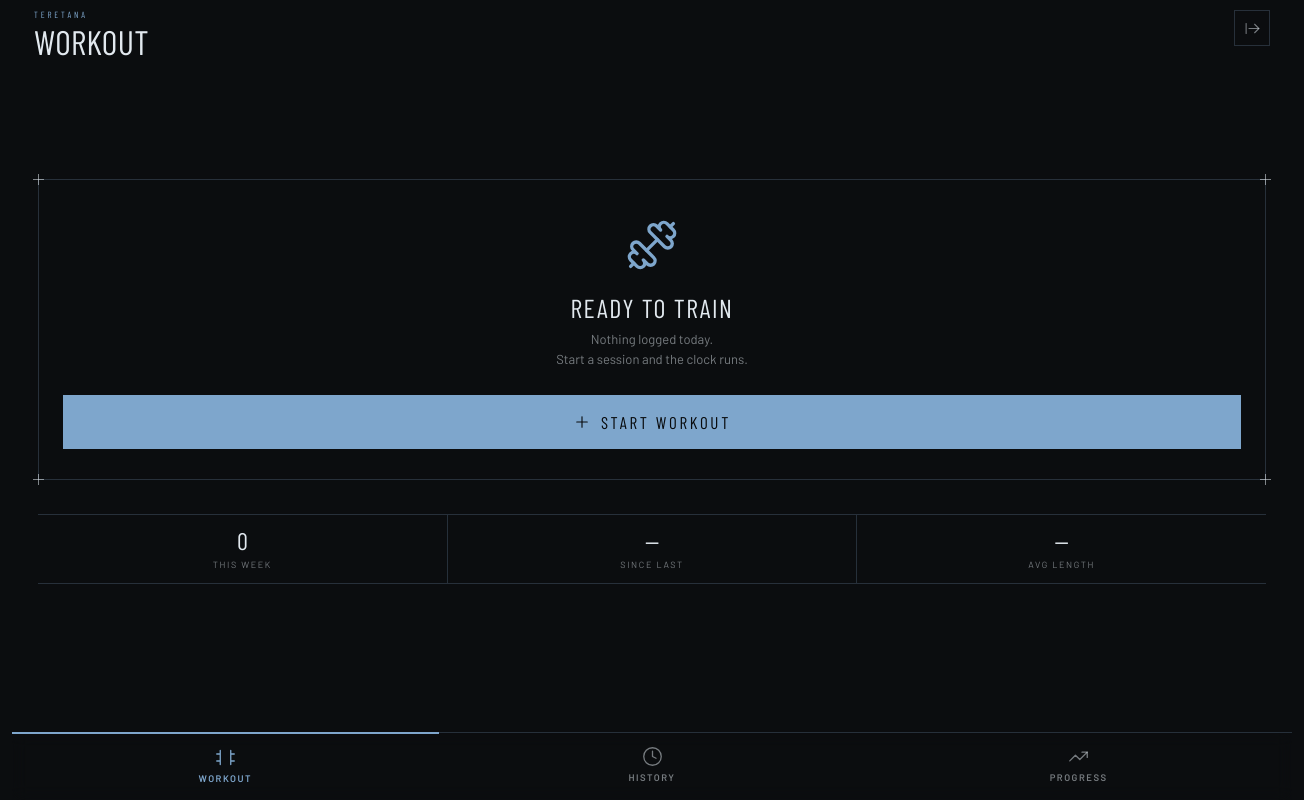
Test: App › discards a running session from the home screen
Expected: the text "Ready to train" is shown, 570,292 -> 733,324
Click the button "Start workout": (652, 422) 63,395 -> 1241,449
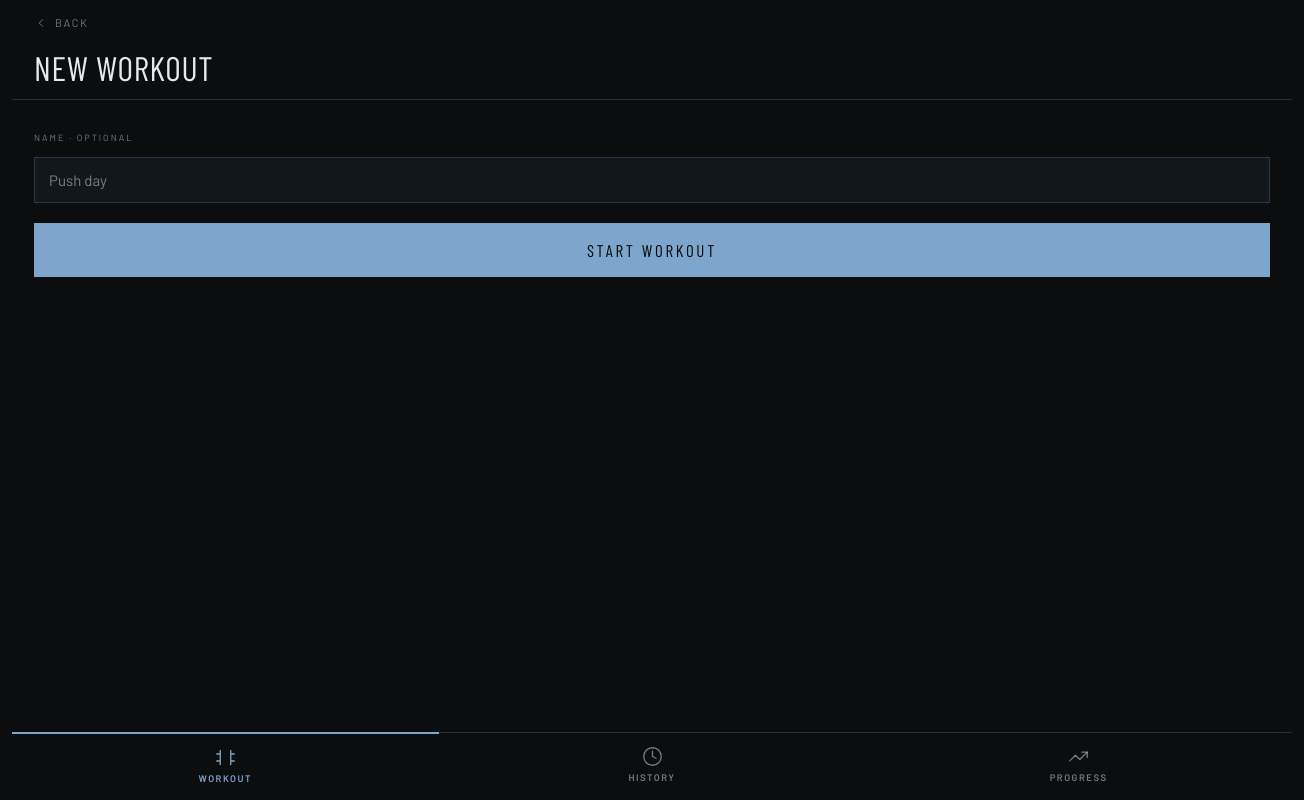
Click the button "Start workout": (652, 250) 34,223 -> 1270,277
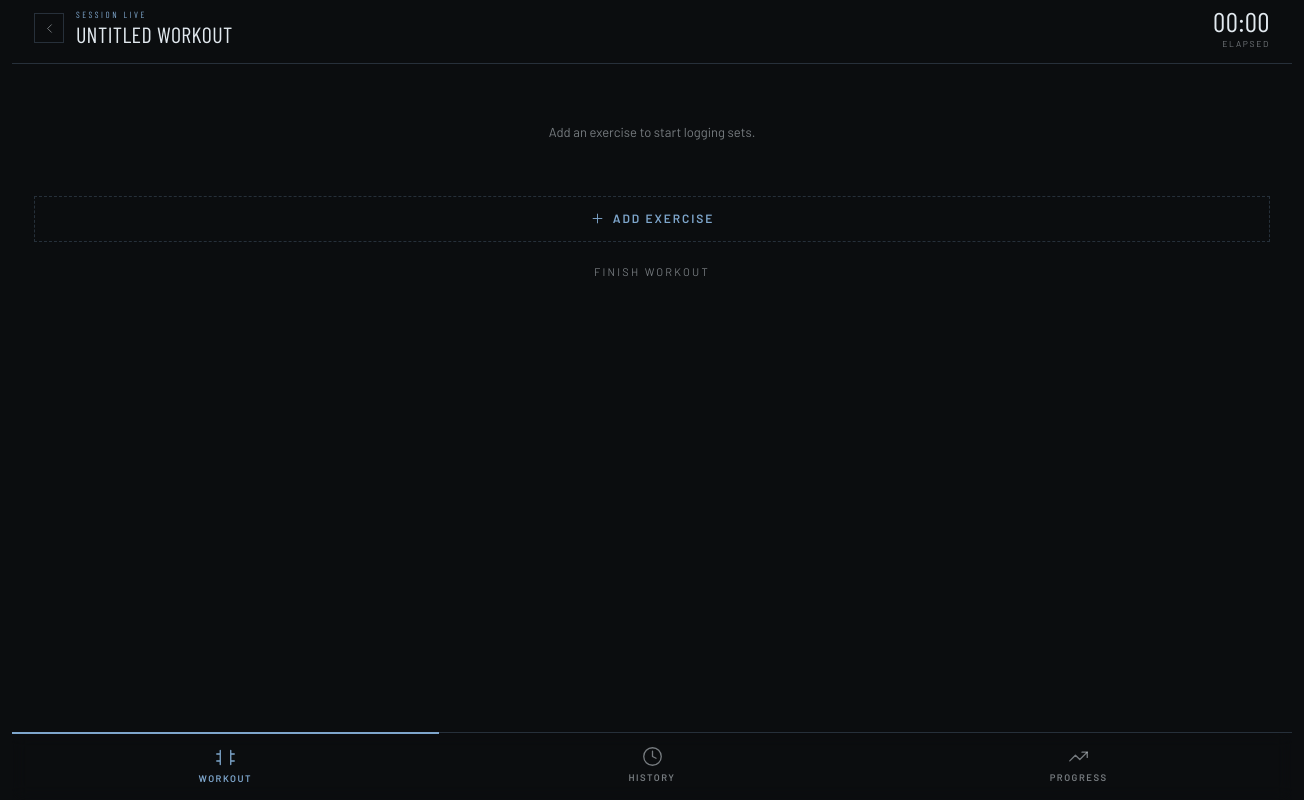
Now the text "Session live" is shown, box 76,9 -> 147,20
Click the button named "Back": (49, 28) 34,13 -> 64,43
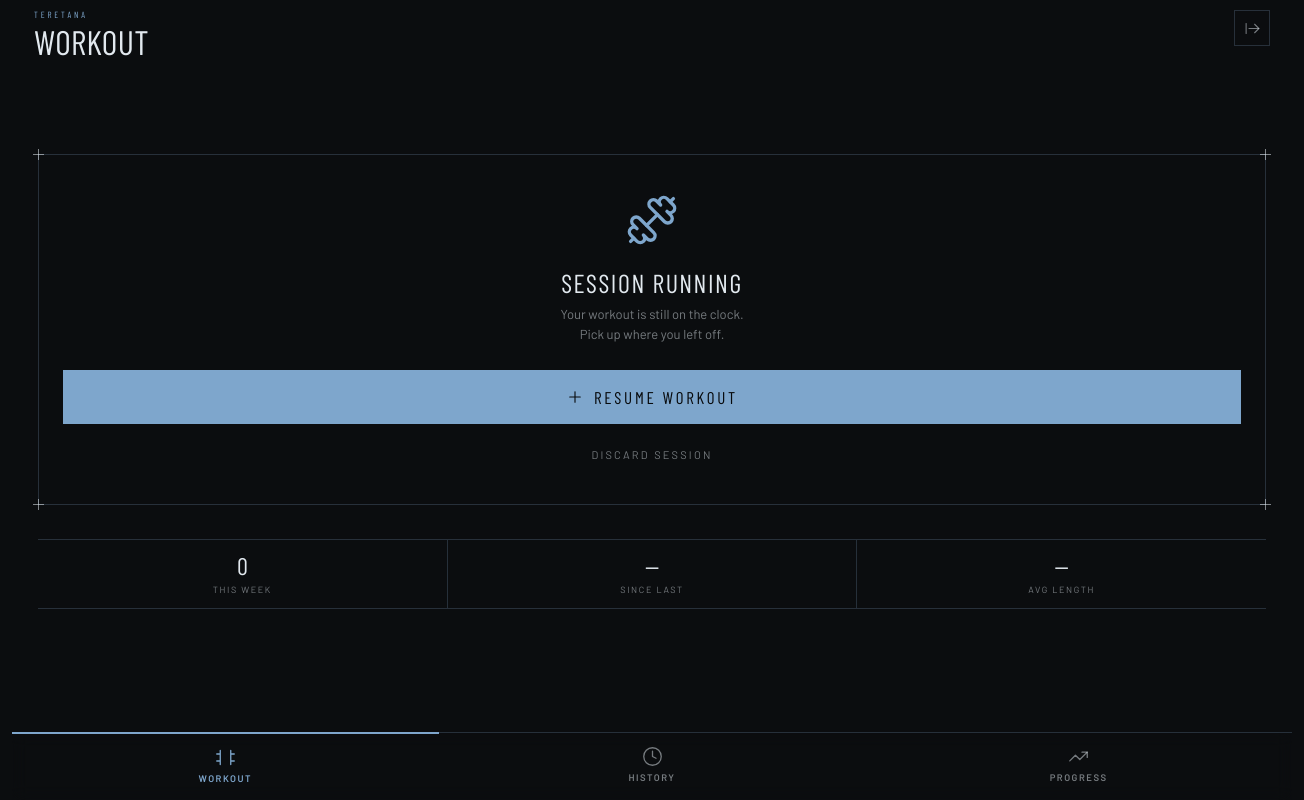
Now the text "Session running" is shown, box 561,267 -> 743,299
Click the button "Discard session": (652, 454) 63,434 -> 1241,474
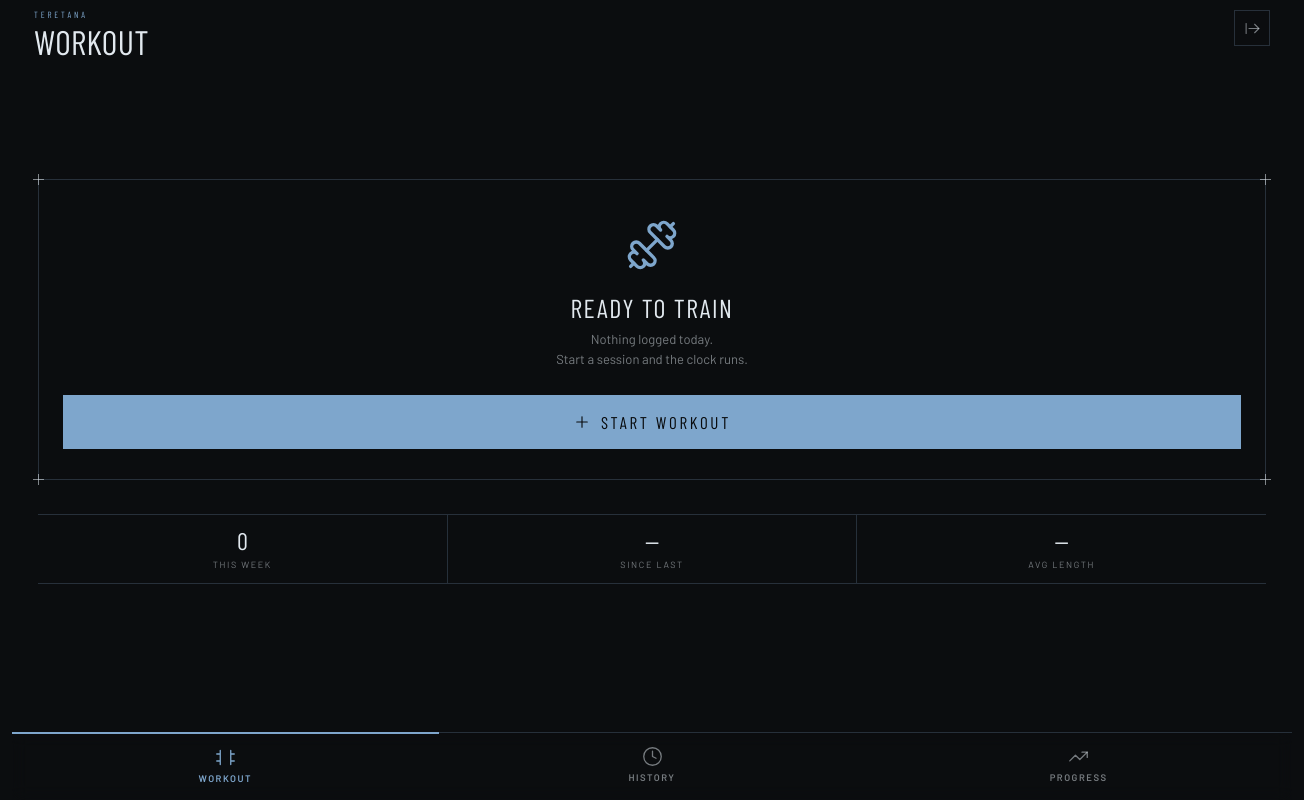
Now the text "Ready to train" is shown, box 570,292 -> 733,324
